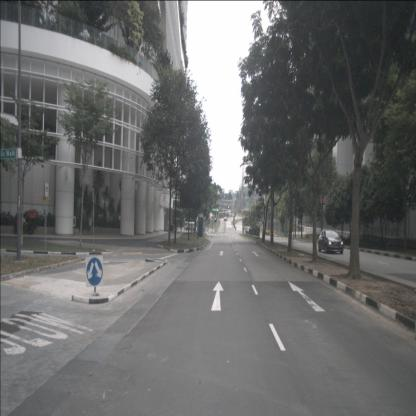human-pedestrian-adult: (176, 219, 178, 231), (180, 220, 182, 232)
vehicle-car: (318, 229, 344, 254)
vehicle-motorcycle: (14, 208, 36, 235)
vehicle-truck: (184, 222, 196, 231)
